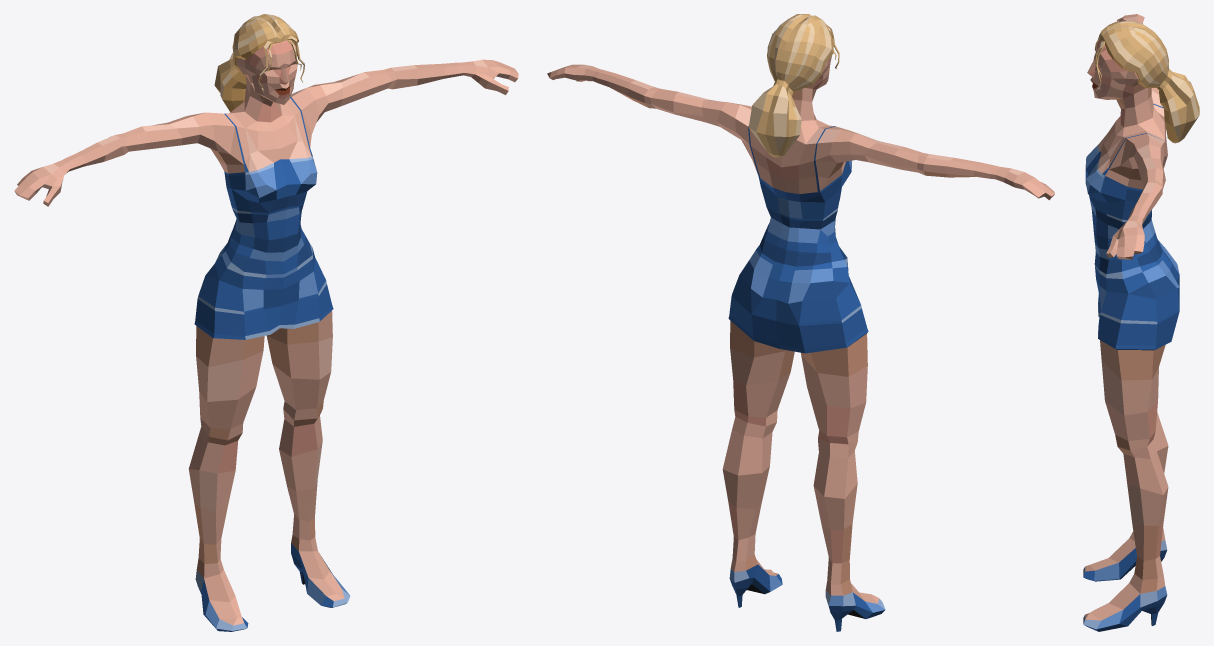
The model's file is night_Female_B-model.fbx.
3 renders of one model, left to right at view 1: azimuth 30°, elevation 25°; view 2: azimuth 150°, elevation 25°; view 3: azimuth 270°, elevation 25°, orthographic. The views are drawn at different scales.
Visible parts, largest first — view 1: night_Female_B, acc_hair_blond_fringes; view 2: night_Female_B, acc_hair_blond_fringes; view 3: night_Female_B, acc_hair_blond_fringes.
Boxes of the visible parts, x1=… form: night_Female_B: x1=14, y1=40, x2=518, y2=631; acc_hair_blond_fringes: x1=214, y1=14, x2=304, y2=111; night_Female_B: x1=547, y1=56, x2=1054, y2=631; acc_hair_blond_fringes: x1=748, y1=14, x2=839, y2=157; night_Female_B: x1=1083, y1=14, x2=1179, y2=631; acc_hair_blond_fringes: x1=1094, y1=21, x2=1199, y2=143.
Size of the model in its own units: 160 by 179 by 32.79.
1 material, 1 textured.
